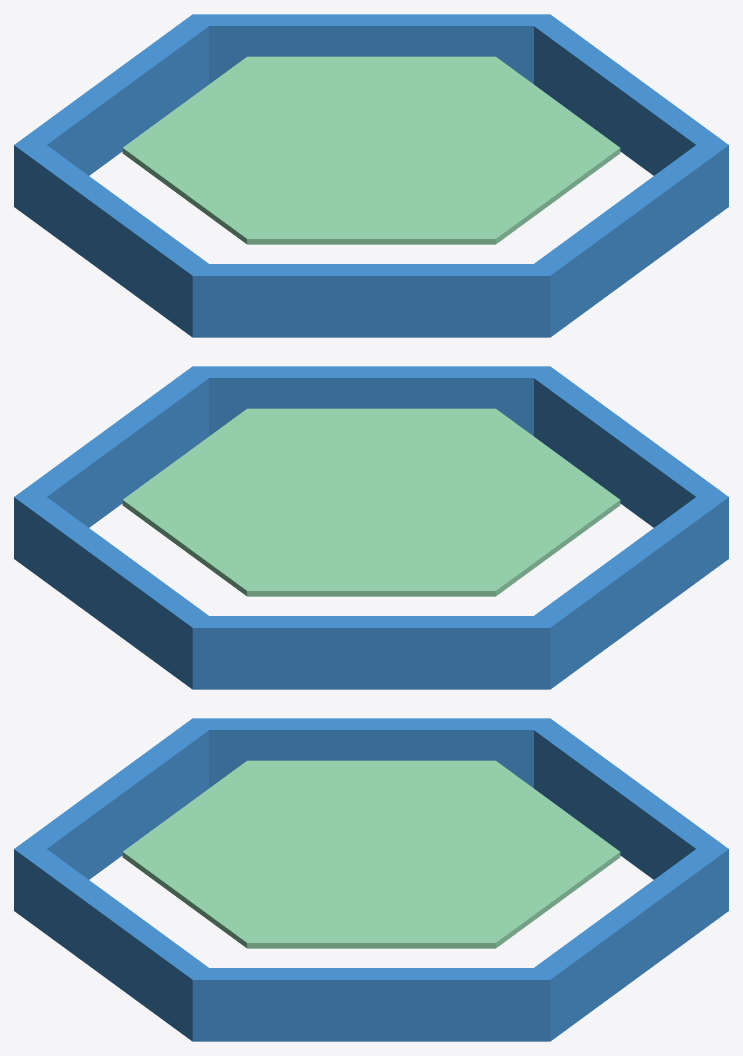
Rendered from Trampoline.fbx.
3 renders of one model, top to bottom at view 1: azimuth 30°, elevation 25°; view 2: azimuth 150°, elevation 25°; view 3: azimuth 270°, elevation 25°, orthographic.
Parts seen in each view (by area): view 1: Circle.001, Circle; view 2: Circle.001, Circle; view 3: Circle.001, Circle.
Part boxes in pixels (<box>): Circle.001: <box>14,14,728,337</box>; Circle: <box>122,56,620,244</box>; Circle.001: <box>14,366,728,689</box>; Circle: <box>122,408,620,596</box>; Circle.001: <box>14,718,728,1041</box>; Circle: <box>122,760,620,948</box>.
Bounding box in the file's own units: 498 × 54.98 × 575.
